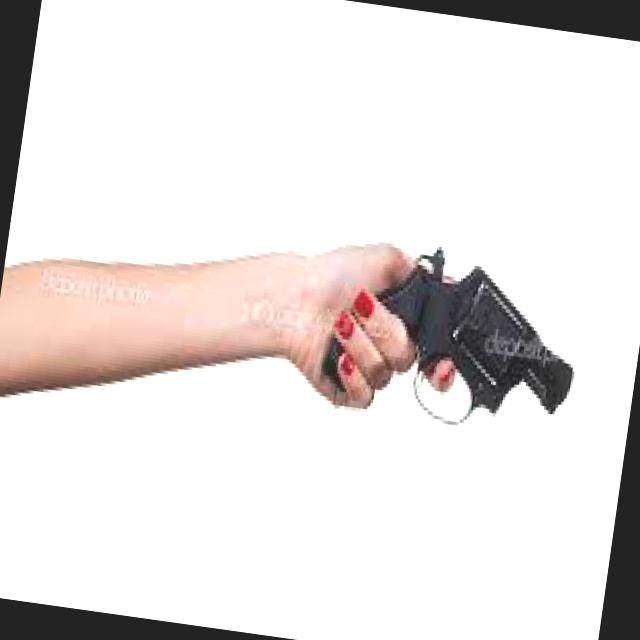handgun: (314, 222, 588, 441)
